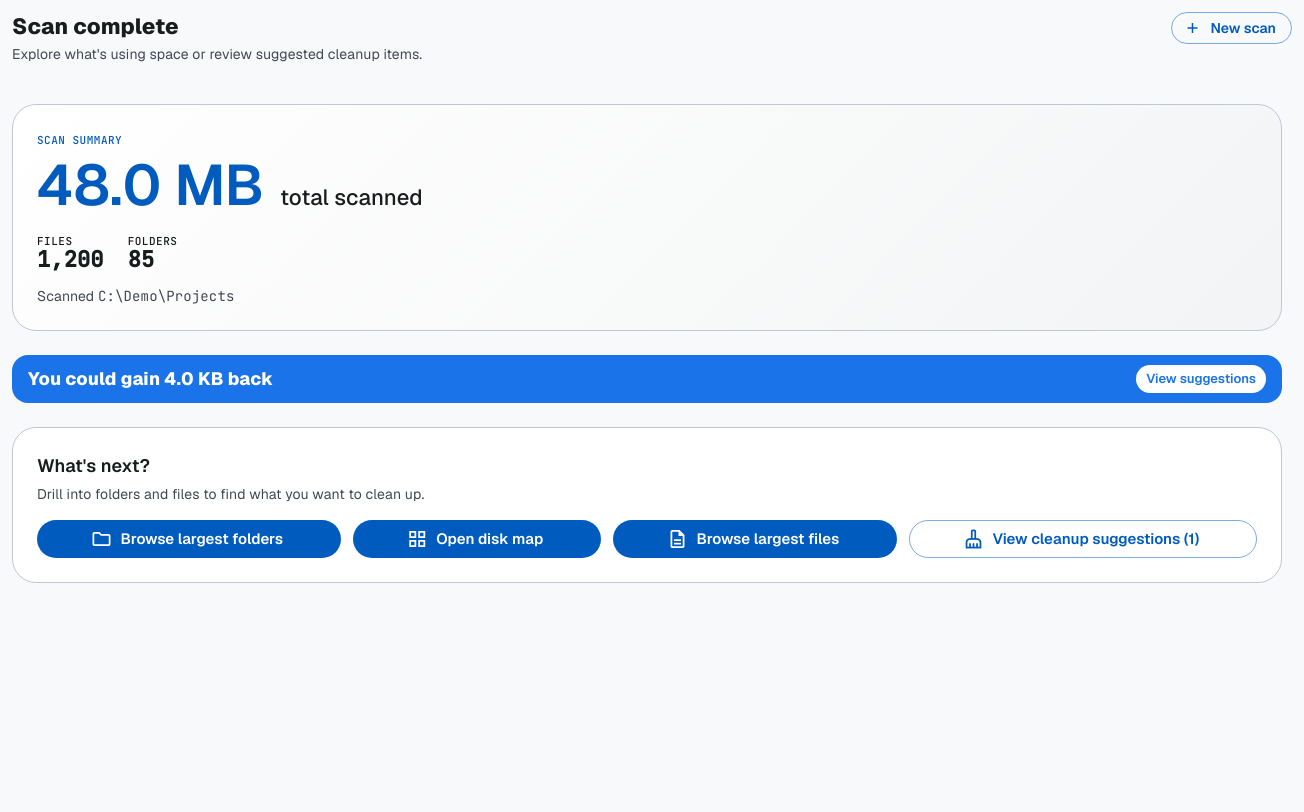
Test: OverviewView › returns to the folder picker when New scan is clicked
The width and height of the screenshot is (1304, 812).
expect the heading "Scan complete" is shown: met, box left=12, top=12, right=179, bottom=40
Click the button "New scan".
click(1231, 28)  # box left=1170, top=12, right=1292, bottom=44
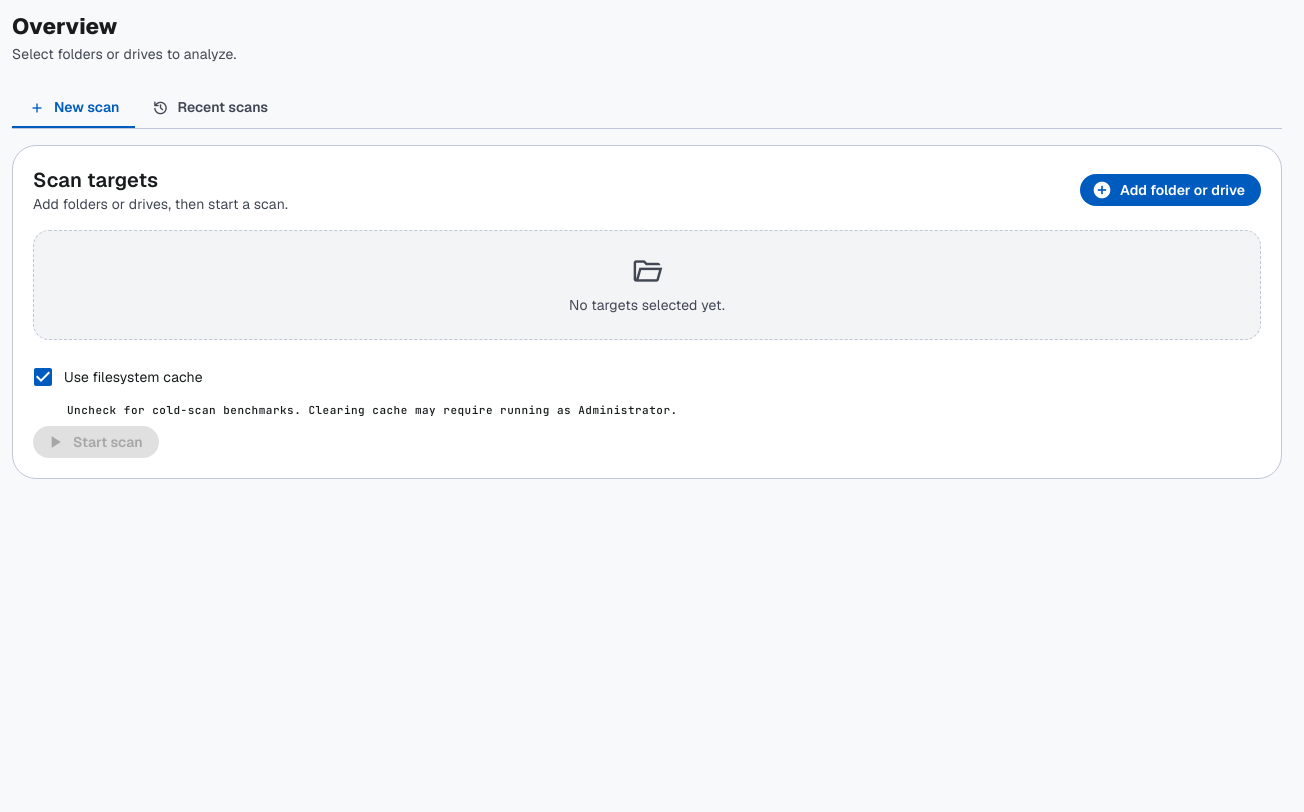
expect the heading "Overview" is shown: met, box left=12, top=12, right=118, bottom=40
expect the button "Add folder or drive" is shown: met, box left=1080, top=174, right=1261, bottom=206
